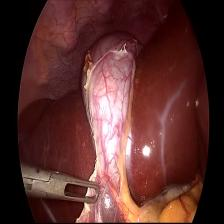Grasper: (22, 167, 102, 210)
